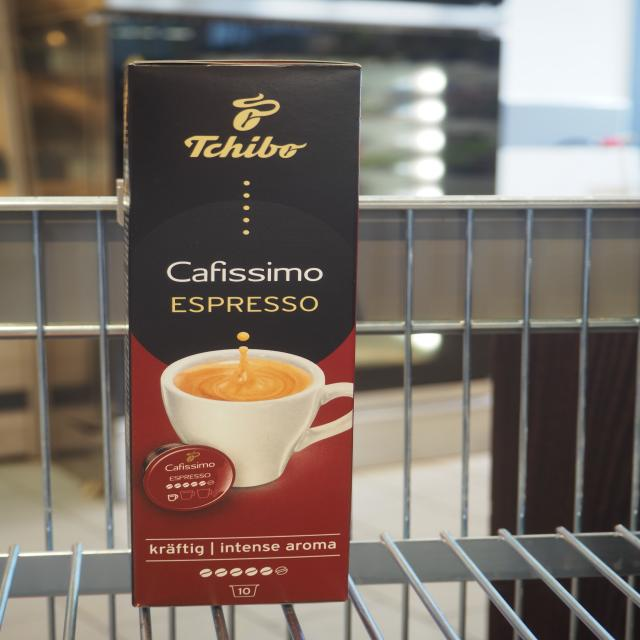Simo Es Kraft: (121, 58, 365, 610)
